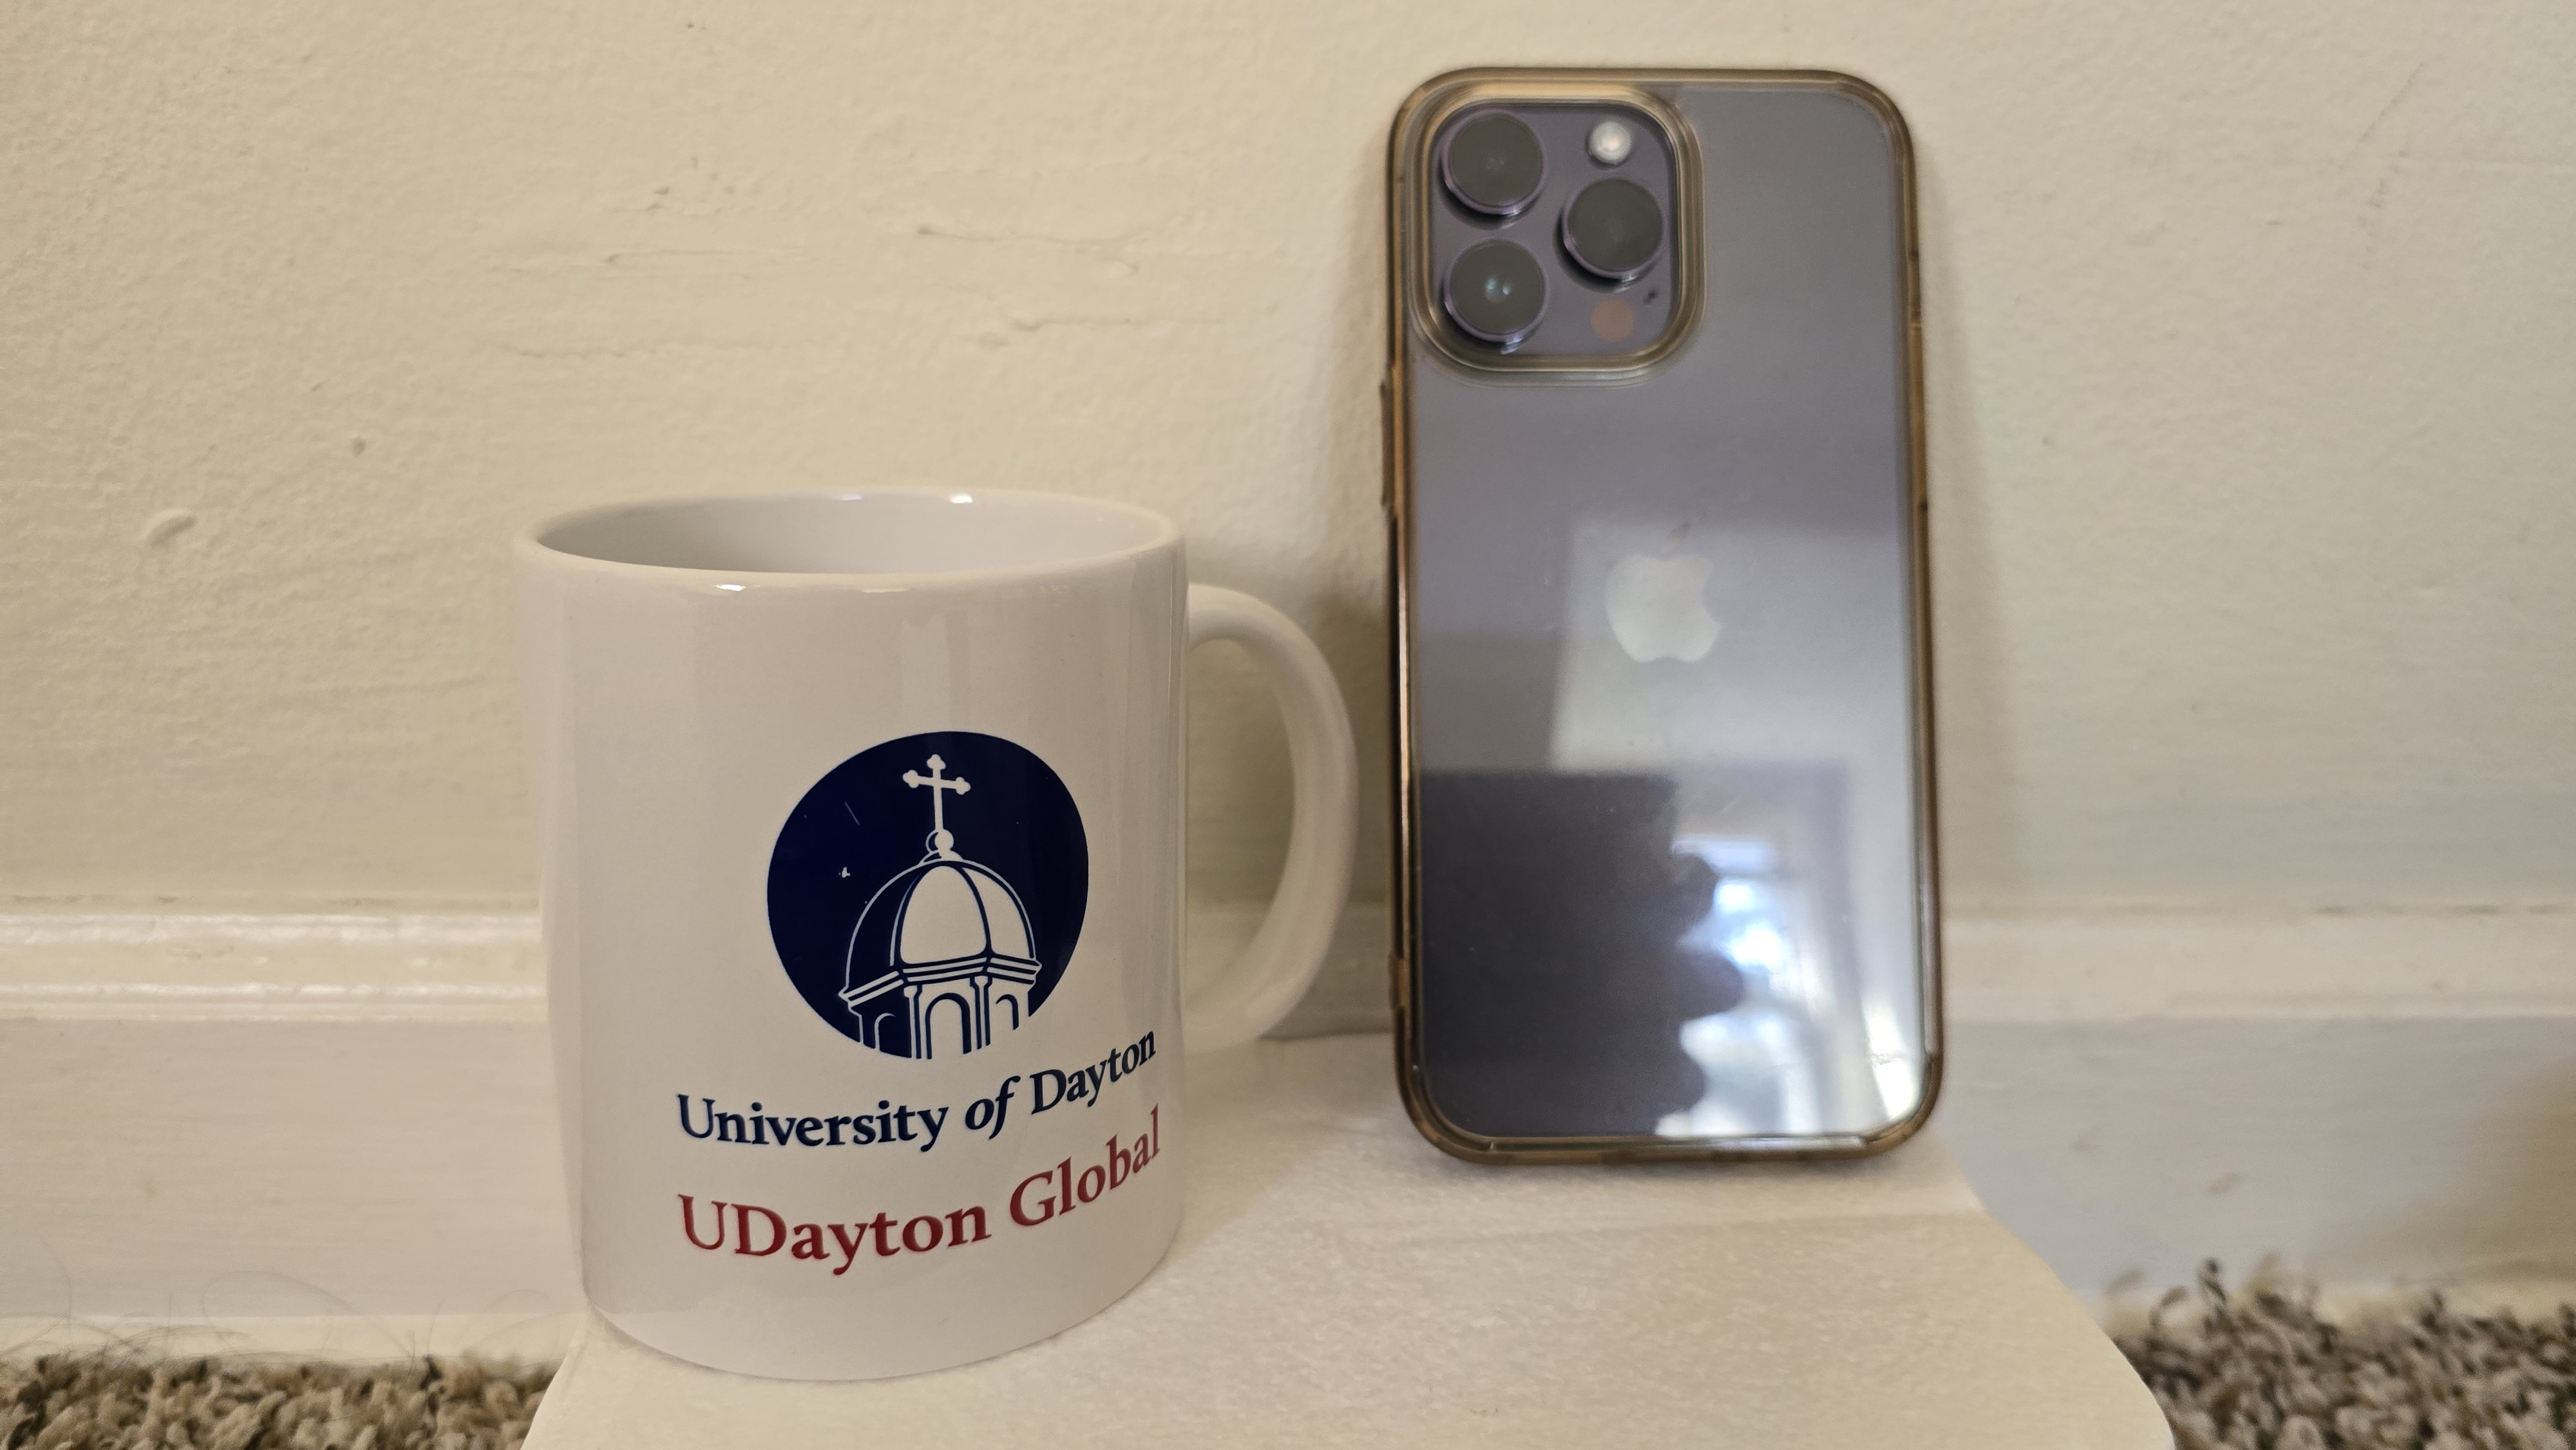mug: (446, 398, 1389, 1395)
